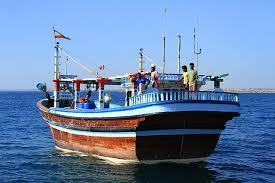fishing boat: (33, 22, 244, 167)
